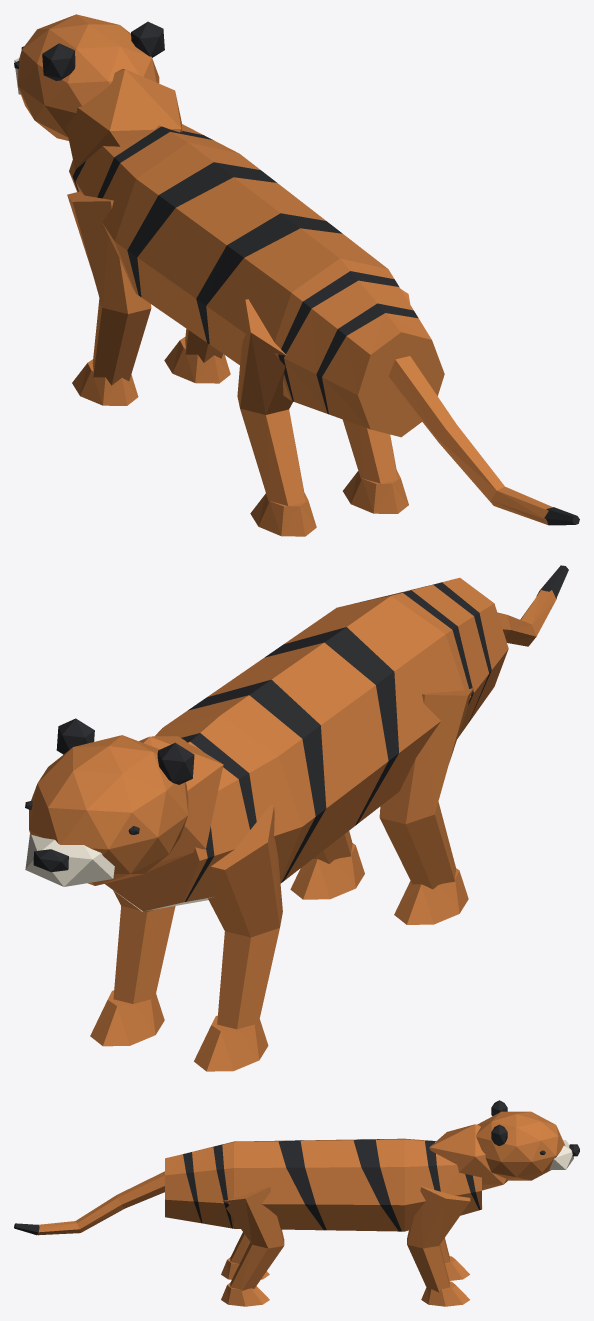
Rendered from tiger.fbx.
3 renders of one model, top to bottom at view 1: azimuth 30°, elevation 25°; view 2: azimuth 150°, elevation 25°; view 3: azimuth 270°, elevation 25°, orthographic. The views are drawn at different scales.
Visible parts, largest first — view 1: tiger; view 2: tiger; view 3: tiger.
Part boxes in pixels (bbox=[...]): tiger: bbox=[14, 14, 579, 536]; tiger: bbox=[25, 565, 568, 1071]; tiger: bbox=[14, 1100, 579, 1306].
Bounding box in the file's own units: 0.69 × 1.3 × 3.82.
